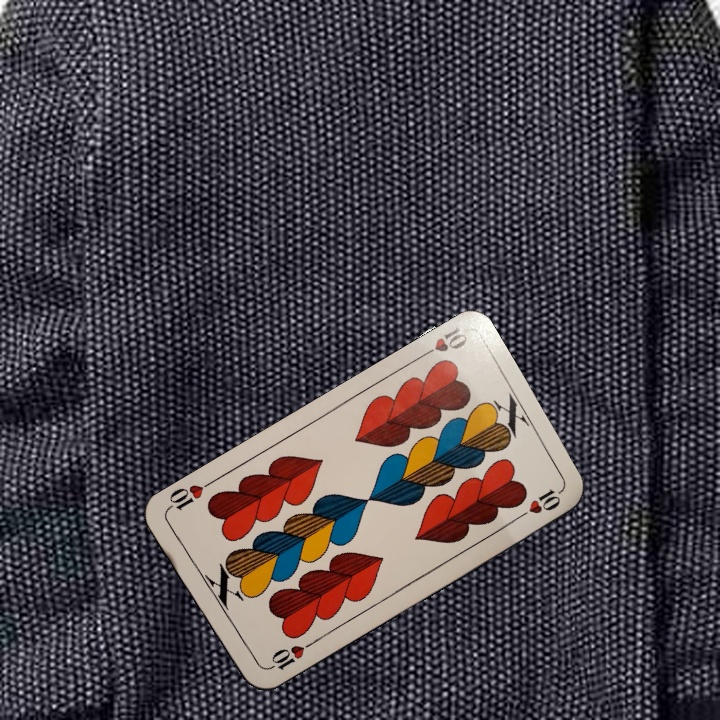H10: (414, 323, 470, 362), (261, 638, 315, 674)
